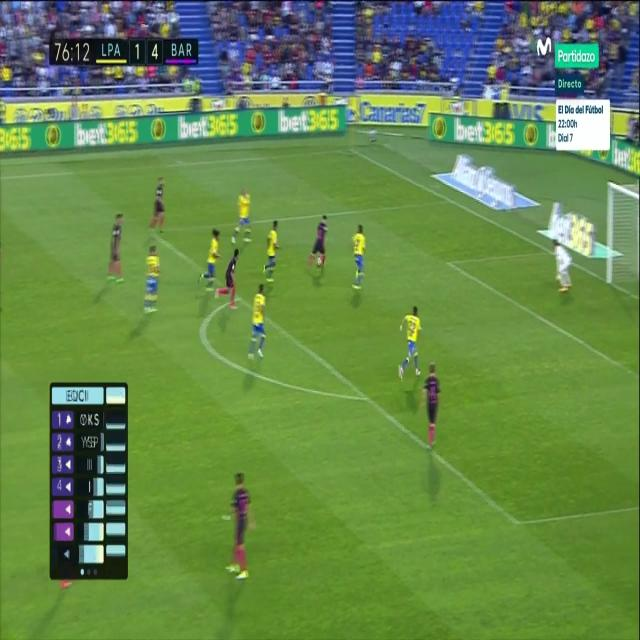Ball: (316, 255, 323, 269)
Goalkeeper: (551, 233, 574, 300)
Player: (224, 470, 257, 582), (244, 280, 269, 371), (396, 302, 423, 386), (421, 360, 444, 452), (198, 226, 222, 296), (306, 212, 332, 274), (105, 208, 125, 288), (214, 250, 238, 312), (142, 244, 161, 320), (232, 188, 254, 248), (350, 225, 368, 294), (262, 219, 280, 287), (150, 174, 168, 239)
